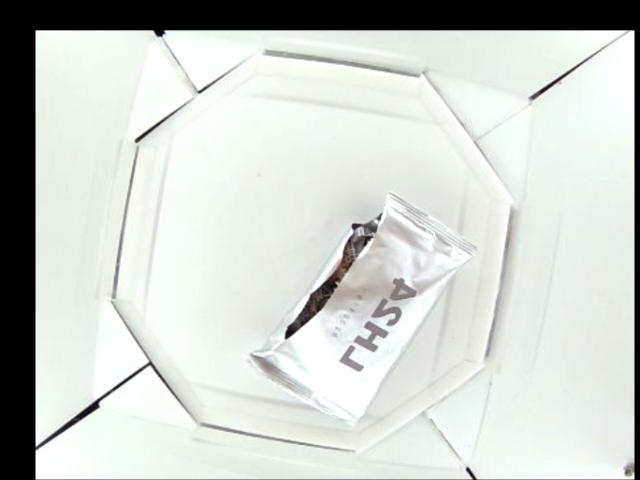Medicine: (248, 189, 474, 420)
